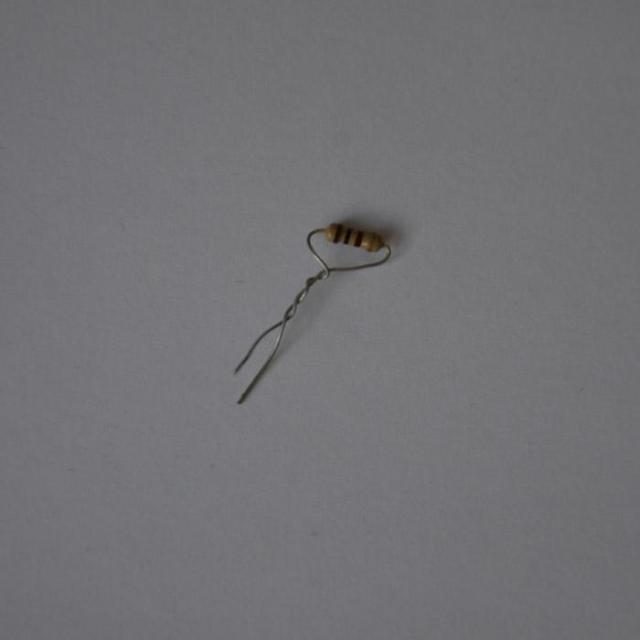Resistor: (321, 221, 390, 258)
